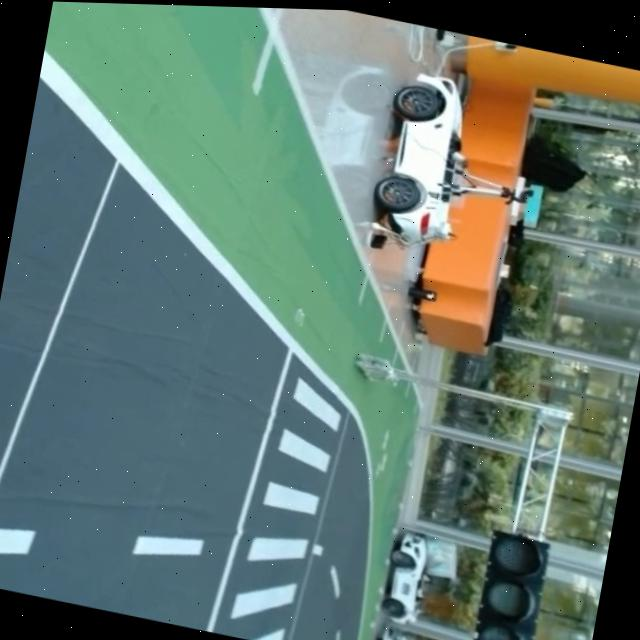traffic-light: (463, 523, 557, 640)
